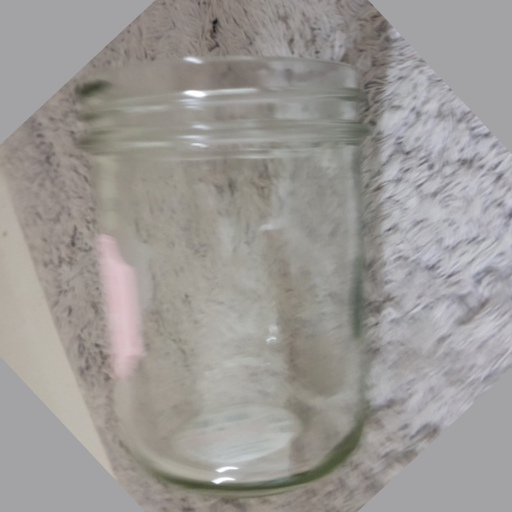Glass_5: (76, 56, 372, 491)
